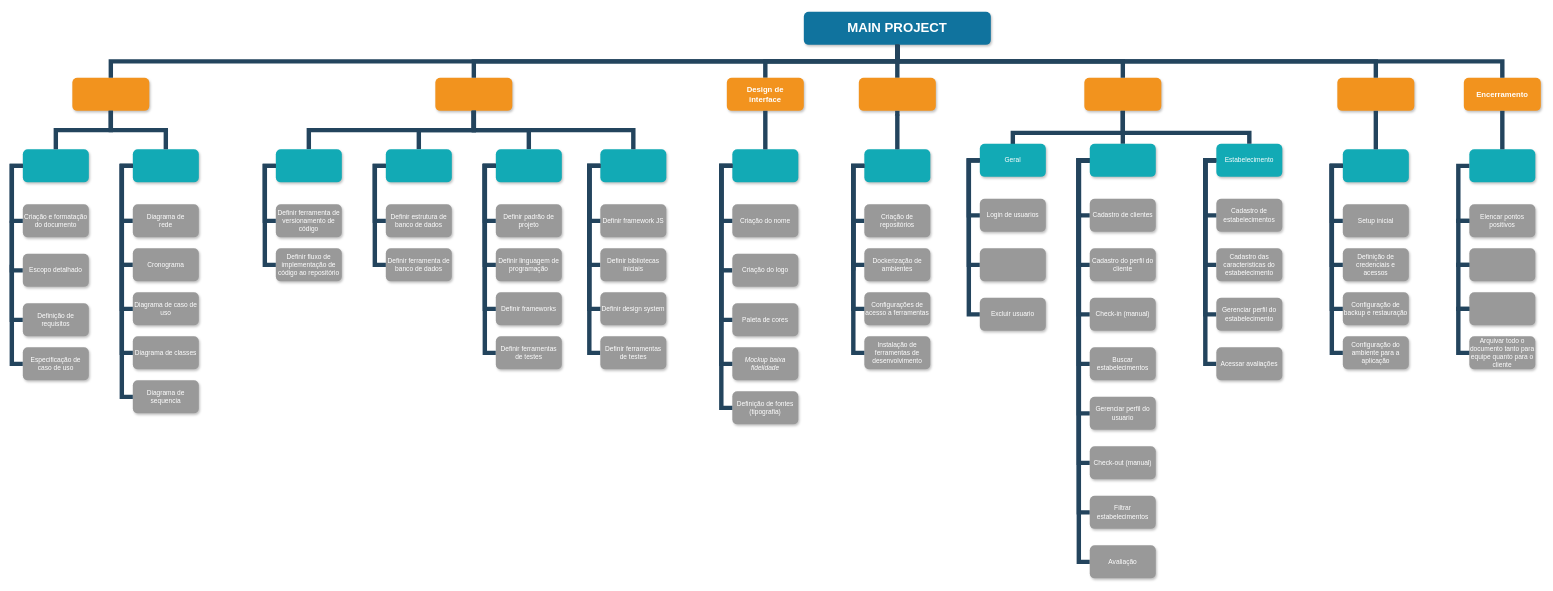
Image size: 1553x591. Some labels were removed from this diagram. Each missing label, with the centre of its shape:
Arquitetura de software: the point at 474,94
Backend: the point at 529,166
Banco de dados: the point at 419,166
Cliente: the point at 1123,160
Configurações: the point at 897,166
Criação: the point at 765,166
Deploy: the point at 1376,94
Desenvolvimento do Produto: the point at 1123,94
Diagramas e fluxogramas: the point at 166,166
Documentação do projeto: the point at 111,94
Elencar pontos negativos: the point at 1502,265
Escrita: the point at 56,166
Finalizar o projeto com o cliente: the point at 1502,309
Frontend: the point at 633,166
Infraestrutura: the point at 897,94
Logout: the point at 1013,265
Relatório: the point at 1502,166
Servidores: the point at 1376,166
Versionamento: the point at 309,166
